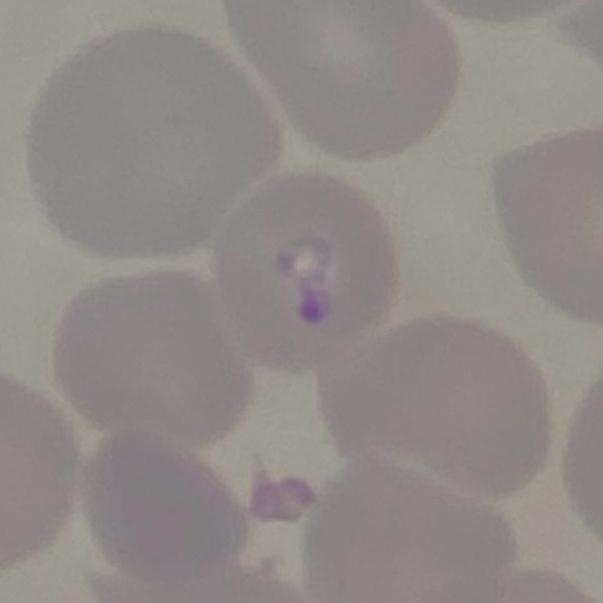Infected: (220, 169, 399, 364)
Uninfected: (27, 23, 287, 259), (314, 316, 551, 498), (224, 0, 461, 161), (51, 270, 253, 441), (302, 455, 517, 603), (81, 428, 249, 581)
